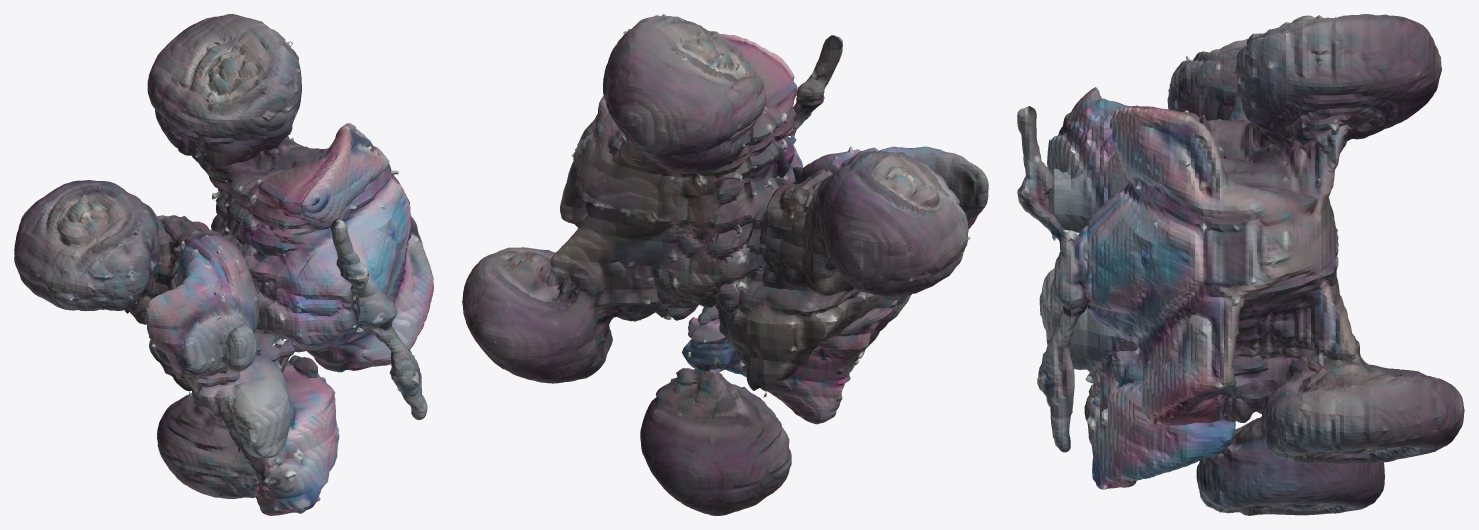
The model's file is atv_model.glb.
The picture shows the model from 3 angles, left to right: view 1: azimuth 30°, elevation 25°; view 2: azimuth 150°, elevation 25°; view 3: azimuth 270°, elevation 25°; orthographic projection. The views are drawn at different scales.
Visible parts, largest first — view 1: world; view 2: world; view 3: world.
Boxes of the visible parts, bbox=[...] form: world: bbox=[14, 14, 433, 515]; world: bbox=[462, 14, 988, 515]; world: bbox=[1017, 14, 1464, 515].
Size of the model in its own units: 0.9474 by 0.969 by 0.7348.
